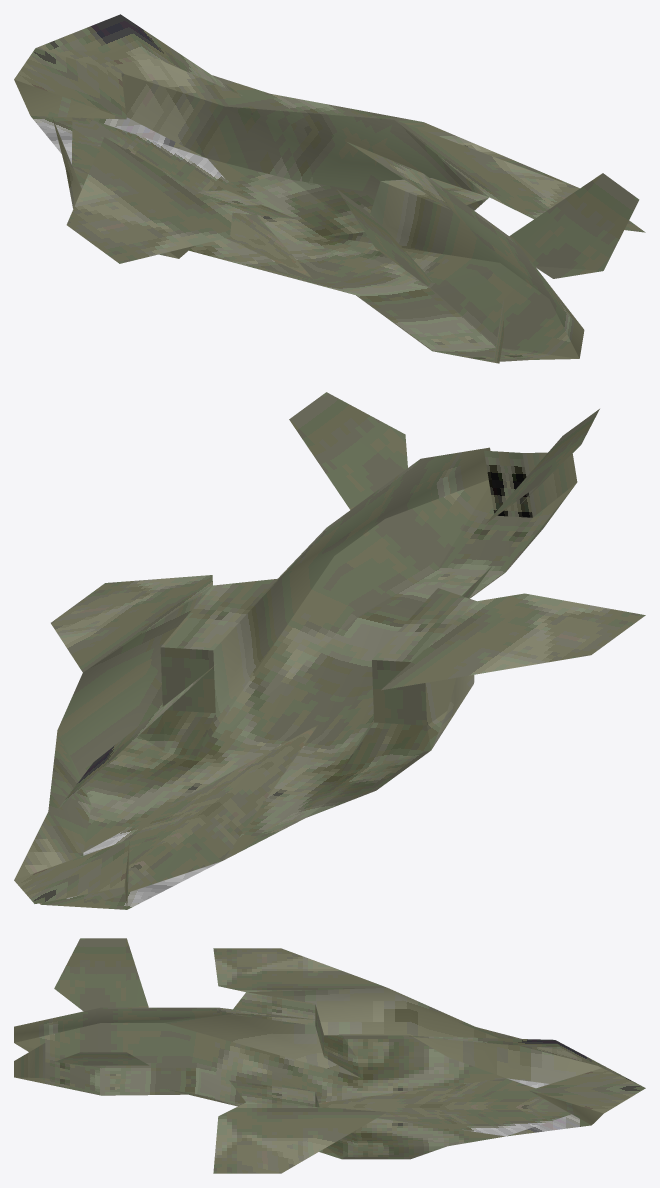
The model's file is ps2_save-icons_dropshipunitedpeaceforce.glb.
3 views of the same model, one above another, from view 1: azimuth 30°, elevation 25°; view 2: azimuth 150°, elevation 25°; view 3: azimuth 270°, elevation 25° (orthographic). The views are drawn at different scales.
Visible parts, largest first — view 1: xxx.ico; view 2: xxx.ico; view 3: xxx.ico.
Part boxes in pixels (box(x1,y1,x2,y2)): xxx.ico: box(14, 14, 645, 363); xxx.ico: box(14, 392, 645, 909); xxx.ico: box(14, 938, 645, 1173).
Size of the model in its own units: 2.77 by 1.15 by 4.52.
Materials: 1 (1 with a texture image).
